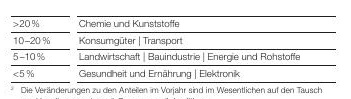table: (0, 0, 351, 99)
